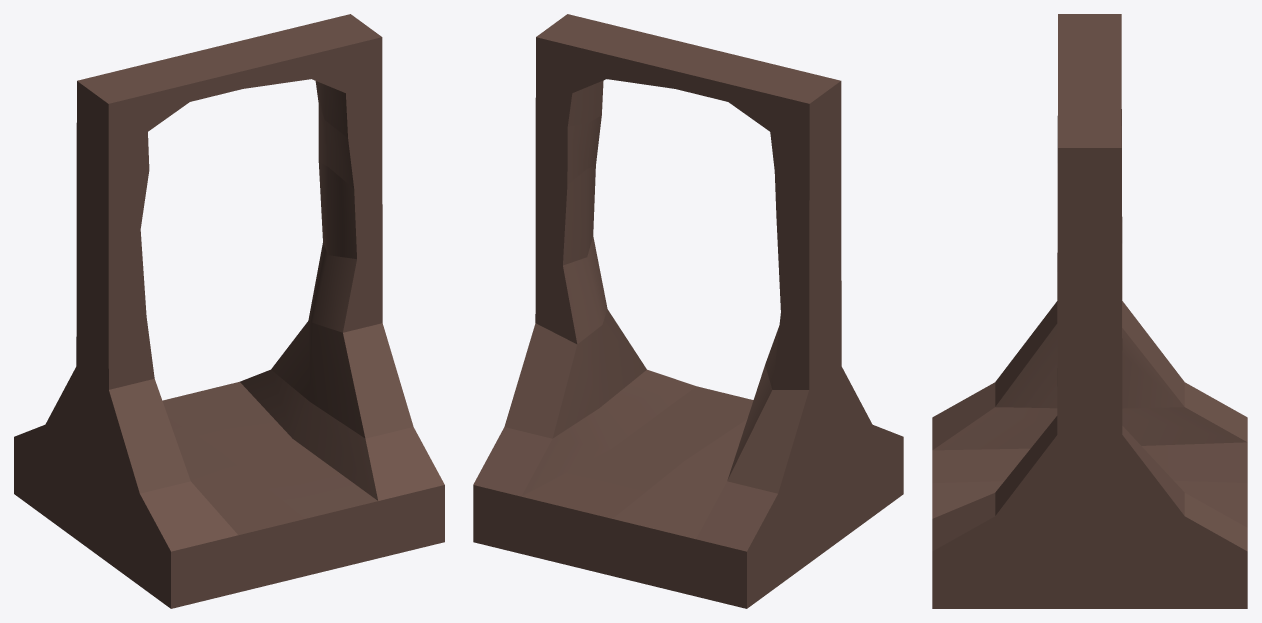
The model's file is Cave_Passage.fbx.
3 renders of one model, left to right at view 1: azimuth 30°, elevation 25°; view 2: azimuth 150°, elevation 25°; view 3: azimuth 270°, elevation 25°, orthographic.
Parts seen in each view (by area): view 1: Cave_Passage; view 2: Cave_Passage; view 3: Cave_Passage.
Boxes of the visible parts, <box> form: Cave_Passage: <box>14,14,444,608</box>; Cave_Passage: <box>473,14,903,608</box>; Cave_Passage: <box>932,14,1247,608</box>.
Bounding box in the file's own units: 5 × 4.97 × 8.01.
